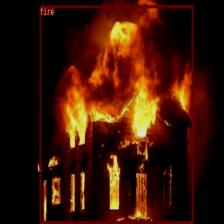fire: (40, 5, 194, 224)
